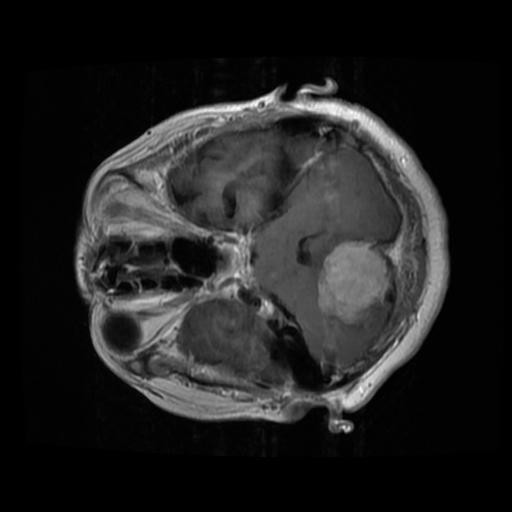meningioma: (316, 239, 391, 324)
